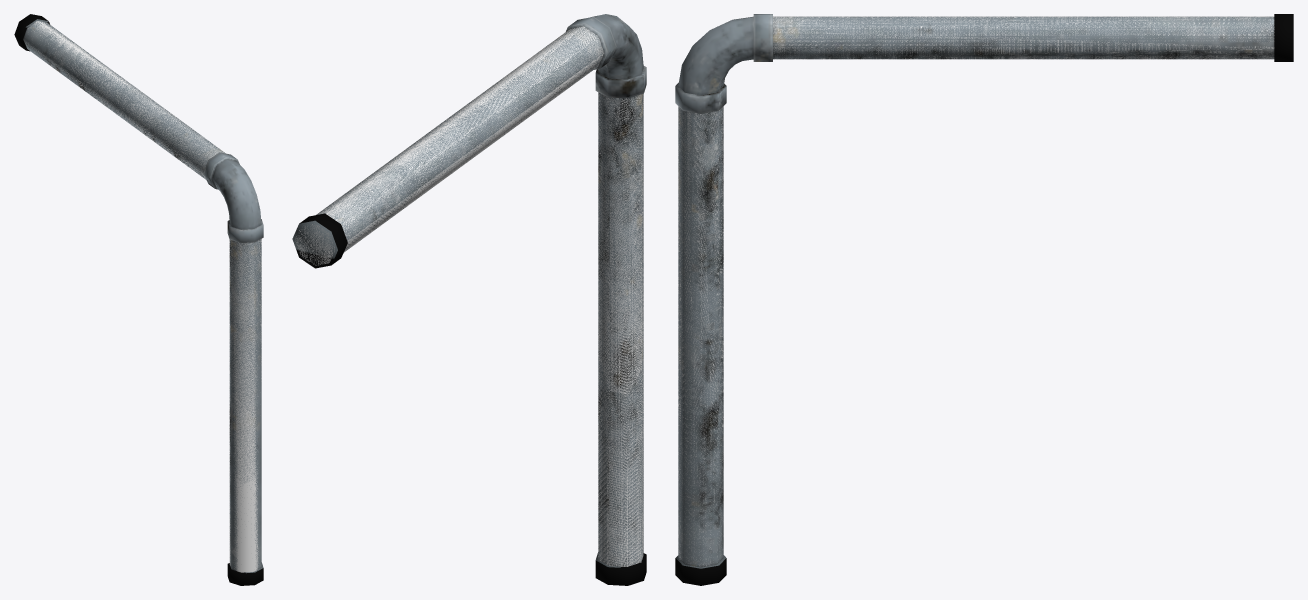
File: objects_un_dlc1_t10pipe01_01.gltf
The picture shows the model from 3 angles, left to right: view 1: azimuth 30°, elevation 25°; view 2: azimuth 150°, elevation 25°; view 3: azimuth 270°, elevation 25°; orthographic projection. The views are drawn at different scales.
Visible parts, largest first — view 1: um_objects_un_dlc1_t10pipe01_01_model_lod0Shape:objects_un_d (×2); view 2: um_objects_un_dlc1_t10pipe01_01_model_lod0Shape:objects_un_d (×2); view 3: um_objects_un_dlc1_t10pipe01_01_model_lod0Shape:objects_un_d (×2).
Part boxes in pixels (left/top/right/bottom): um_objects_un_dlc1_t10pipe01_01_model_lod0Shape:objects_un_d (×2): left=14, top=14, right=263, bottom=585; um_objects_un_dlc1_t10pipe01_01_model_lod0Shape:objects_un_d (×2): left=292, top=14, right=646, bottom=585; um_objects_un_dlc1_t10pipe01_01_model_lod0Shape:objects_un_d (×2): left=675, top=14, right=1293, bottom=585.
Size of what is drawn, in the model's own units: 0.1963 by 2.37 by 2.37.
2 materials, 1 textured.
